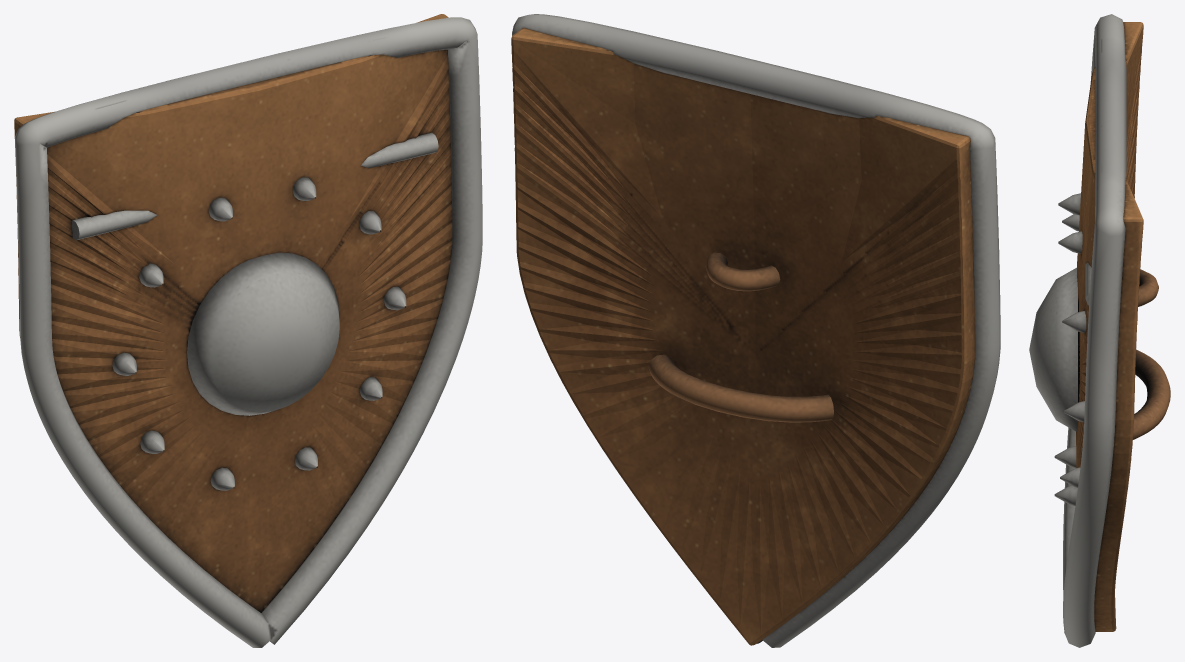
Rendered from arma_escudo_canion.glb.
The picture shows the model from 3 angles, left to right: view 1: azimuth 30°, elevation 25°; view 2: azimuth 150°, elevation 25°; view 3: azimuth 270°, elevation 25°; orthographic projection. The views are drawn at different scales.
Visible parts, largest first — view 1: arma_escudo_canion; view 2: arma_escudo_canion; view 3: arma_escudo_canion.
Boxes of the visible parts, x1,y1,x2,y2 form: arma_escudo_canion: [14, 14, 482, 647]; arma_escudo_canion: [511, 14, 1000, 647]; arma_escudo_canion: [1029, 14, 1170, 647].
Size of the model in its own units: 0.512 by 0.6078 by 0.145.
1 material, 1 textured.
